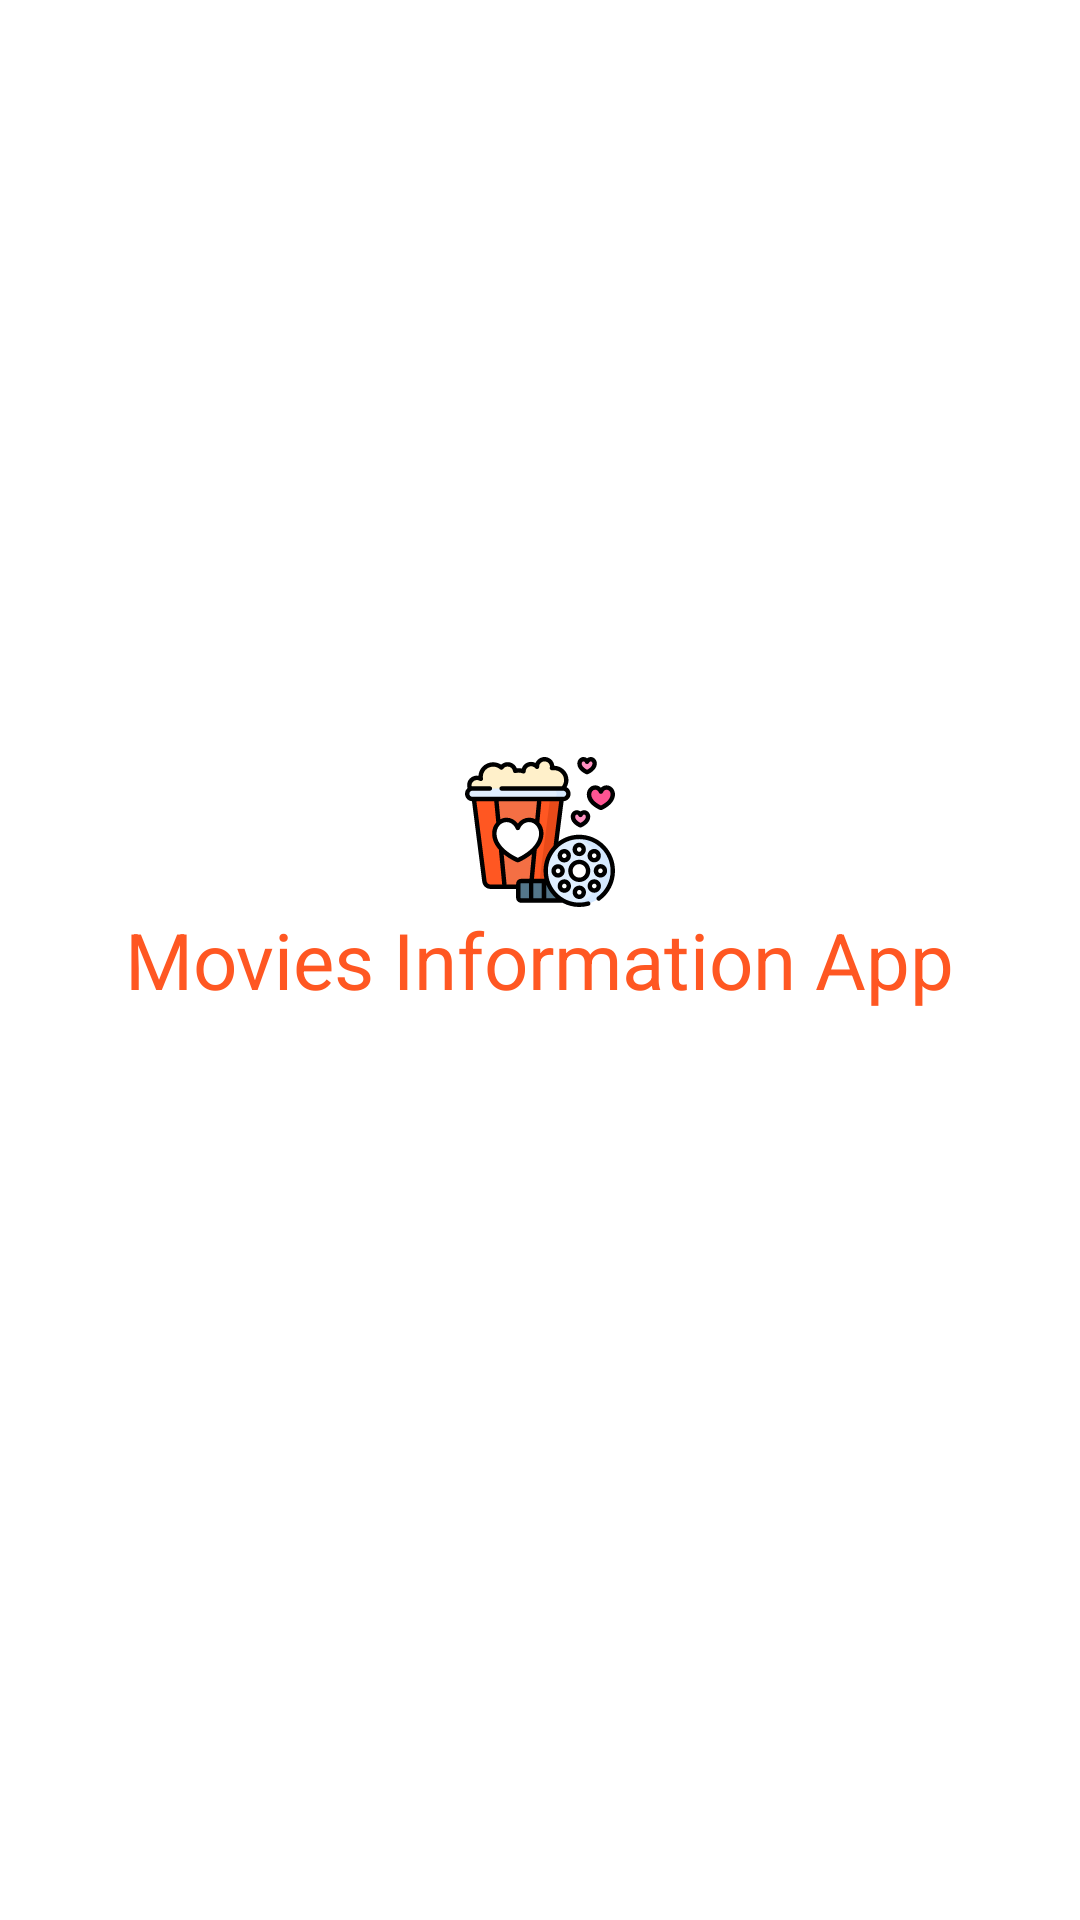

Icon bounding boxes for this 1080px×1920px phone screenshot, format (x1, y1, x2, y2):
cinema: (465, 757, 615, 907)
